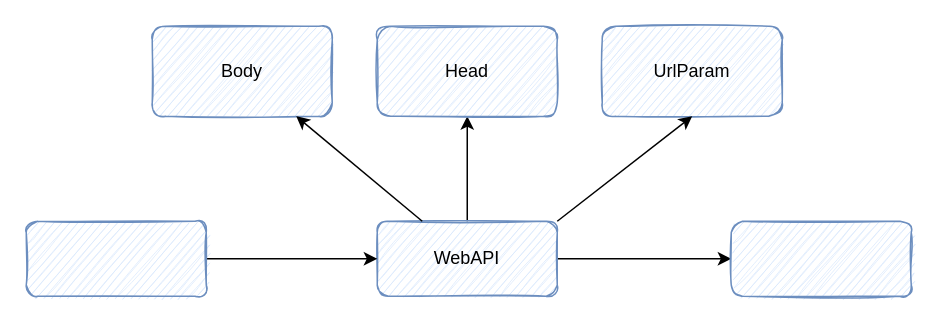
The diagram is 938 pixels wide and 323 high, and some of its shapes have lost their labels. Here are the shapes that lost their labels. From the top down, the centre of each, then its label:
point 115,258: WebAPI-DynamicObj
point 820,258: HttpItem
